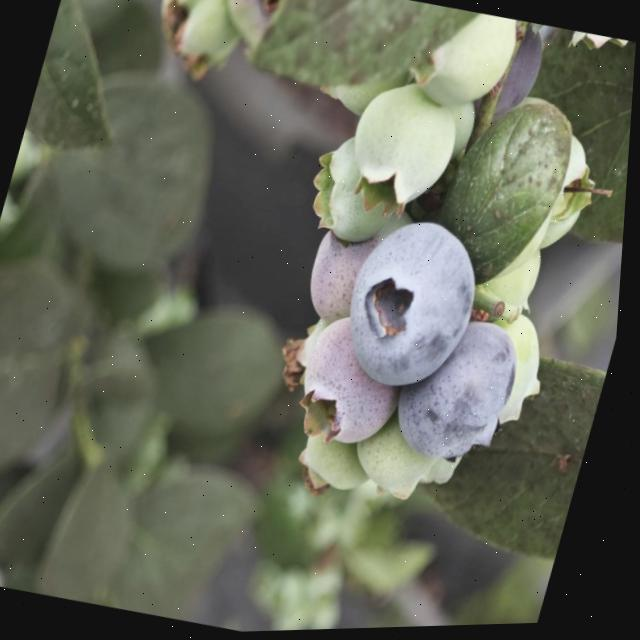RipeBlueBerry: (334, 210, 496, 397), (390, 311, 535, 476)
Semi-RipeBlueBerry: (291, 311, 422, 459)
UnripeBlueBerry: (343, 77, 473, 216)
